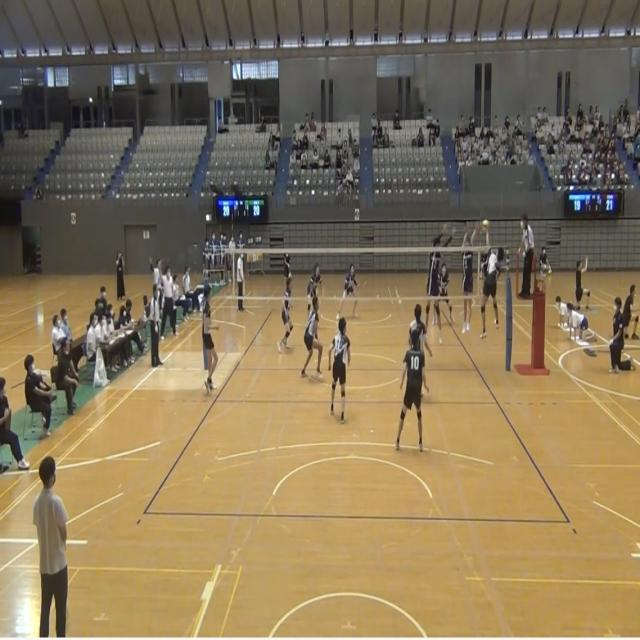spike: (478, 216, 506, 346)
